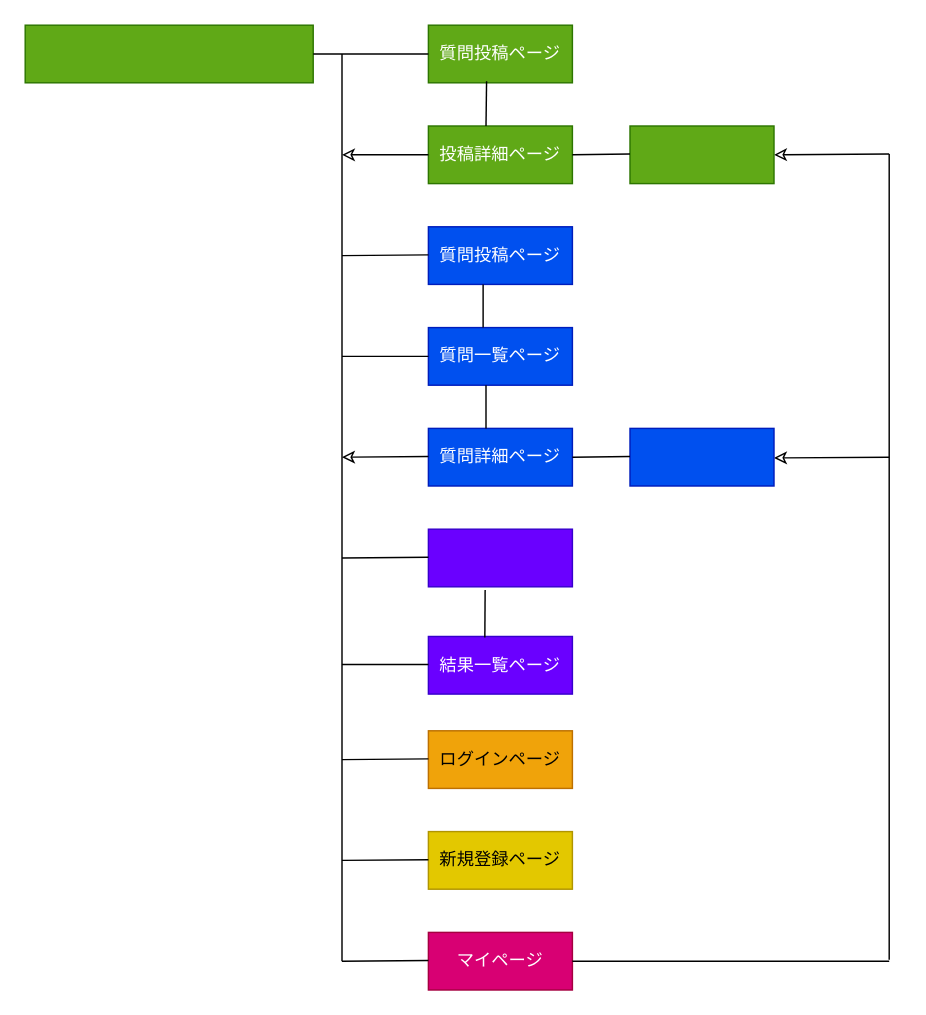
This 926x1015 diagram has some shape labels left out. The shapes that lost their labels are listed below. From the top down, each one's centre as x and y in pixels, then its label:
At (168,53): "トップページ （投稿一覧ページ）".
At (701,154): "投稿編集ページ".
At (701,456): "質問編集ページ".
At (499,557): "結果投稿ページ".
